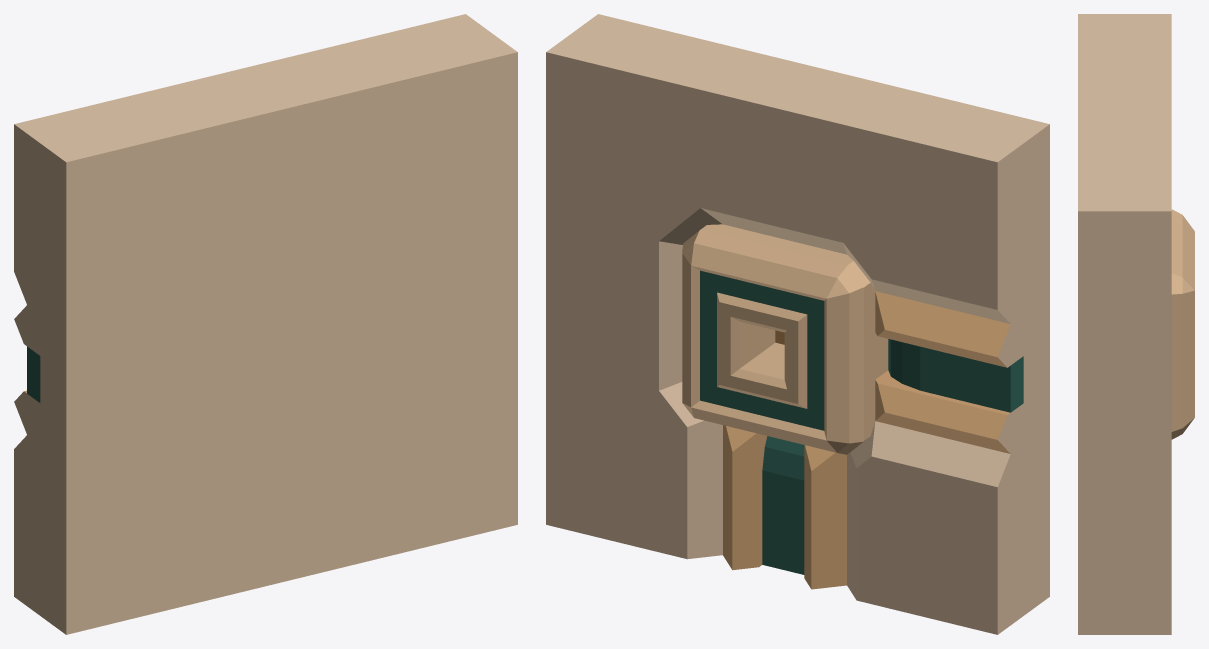
Rendered from Puzzle_Wall_Conduit_Keyhole_Corner.fbx.
3 renders of one model, left to right at view 1: azimuth 30°, elevation 25°; view 2: azimuth 150°, elevation 25°; view 3: azimuth 270°, elevation 25°, orthographic. The views are drawn at different scales.
Parts seen in each view (by area): view 1: Sandstone_Trim.Sandstone_Trim.Sandstone_Trim.Sandstone_Trim.; view 2: Sandstone_Trim.Sandstone_Trim.Sandstone_Trim.Sandstone_Trim., object5, Sandstone_5.Sandstone_5.Sandstone_5.Sandstone_5.Sandstone_5., object3, object1, object2; view 3: Sandstone_Trim.Sandstone_Trim.Sandstone_Trim.Sandstone_Trim., object5.
Part boxes in pixels (x1,y1,x2,y2): Sandstone_Trim.Sandstone_Trim.Sandstone_Trim.Sandstone_Trim.: [14, 14, 517, 634]; Sandstone_Trim.Sandstone_Trim.Sandstone_Trim.Sandstone_Trim.: [546, 14, 1049, 634]; object5: [682, 224, 888, 454]; Sandstone_5.Sandstone_5.Sandstone_5.Sandstone_5.Sandstone_5.: [723, 291, 1010, 589]; object3: [700, 270, 824, 430]; object1: [888, 339, 1023, 412]; object2: [762, 436, 804, 574]; Sandstone_Trim.Sandstone_Trim.Sandstone_Trim.Sandstone_Trim.: [1078, 14, 1171, 634]; object5: [1171, 209, 1194, 439].
Size of the model in its own units: 1 by 1 by 0.25.
